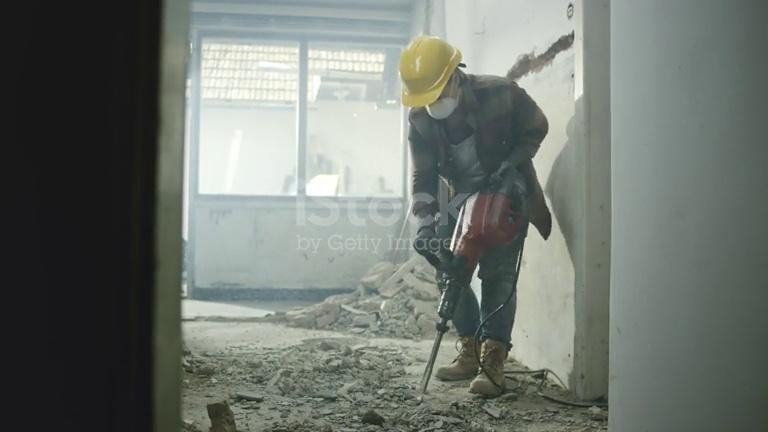helmet: (399, 35, 463, 108)
mask: (425, 82, 463, 119)
person: (397, 34, 552, 399)
